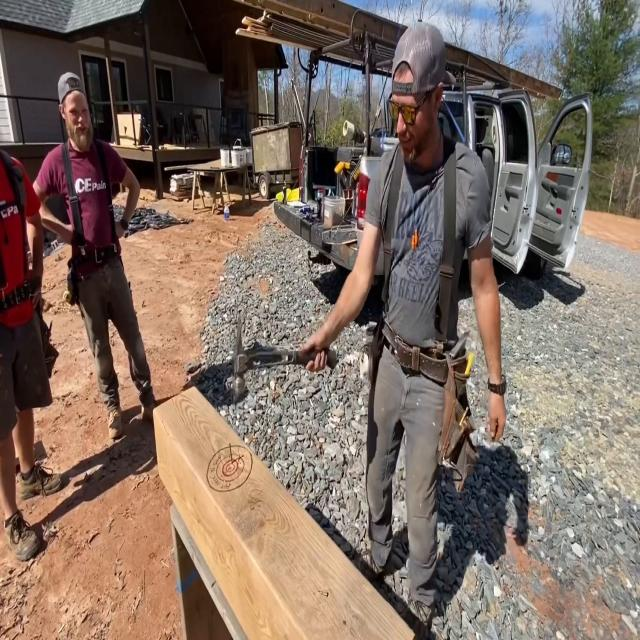hammer: (233, 319, 336, 399)
